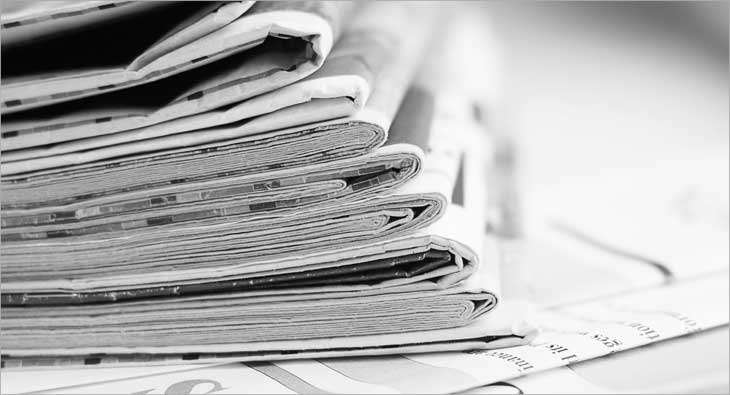news_paper: (1, 2, 549, 371)
